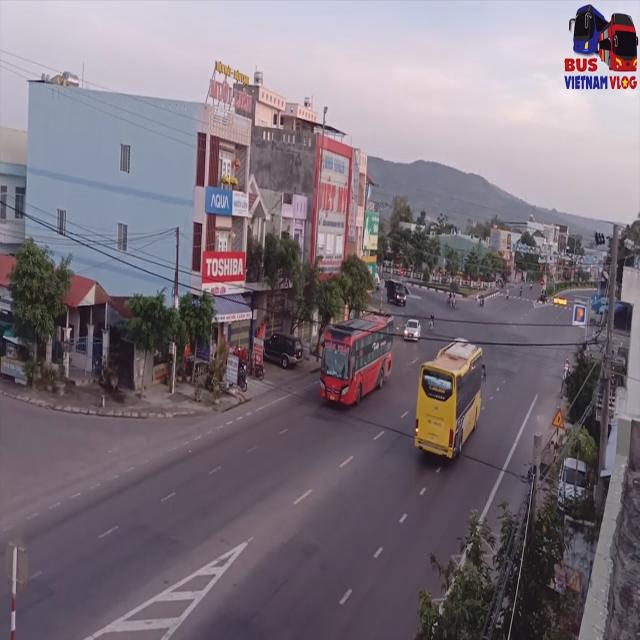bus: (414, 340, 481, 468), (320, 317, 393, 411)
truck: (560, 1, 638, 88)
